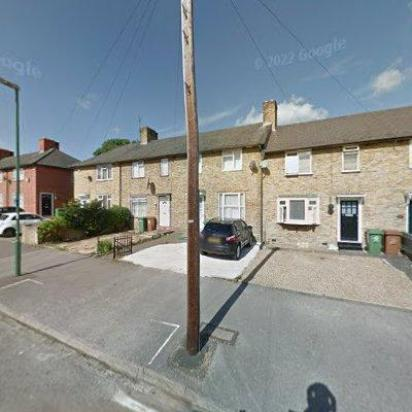stationary-car-offstreet: (197, 216, 256, 258), (0, 209, 44, 235)
